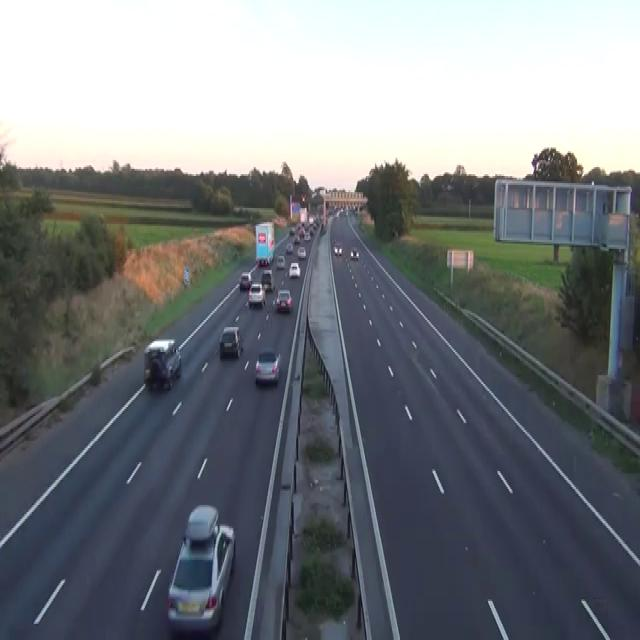Car: (166, 503, 235, 631), (143, 338, 181, 391), (254, 350, 280, 384), (148, 354, 172, 389), (219, 326, 242, 358), (248, 282, 266, 308), (275, 290, 292, 311), (261, 268, 274, 292), (239, 272, 252, 290), (288, 262, 300, 278), (333, 240, 342, 256), (257, 256, 269, 267), (276, 254, 285, 268), (297, 246, 306, 260), (350, 247, 359, 260), (285, 242, 293, 254), (320, 222, 327, 235), (446, 182, 454, 190), (293, 234, 300, 243), (308, 215, 314, 224), (304, 231, 310, 240), (353, 205, 358, 215), (289, 226, 295, 234), (441, 183, 446, 190)
Truck: (255, 220, 275, 266)
